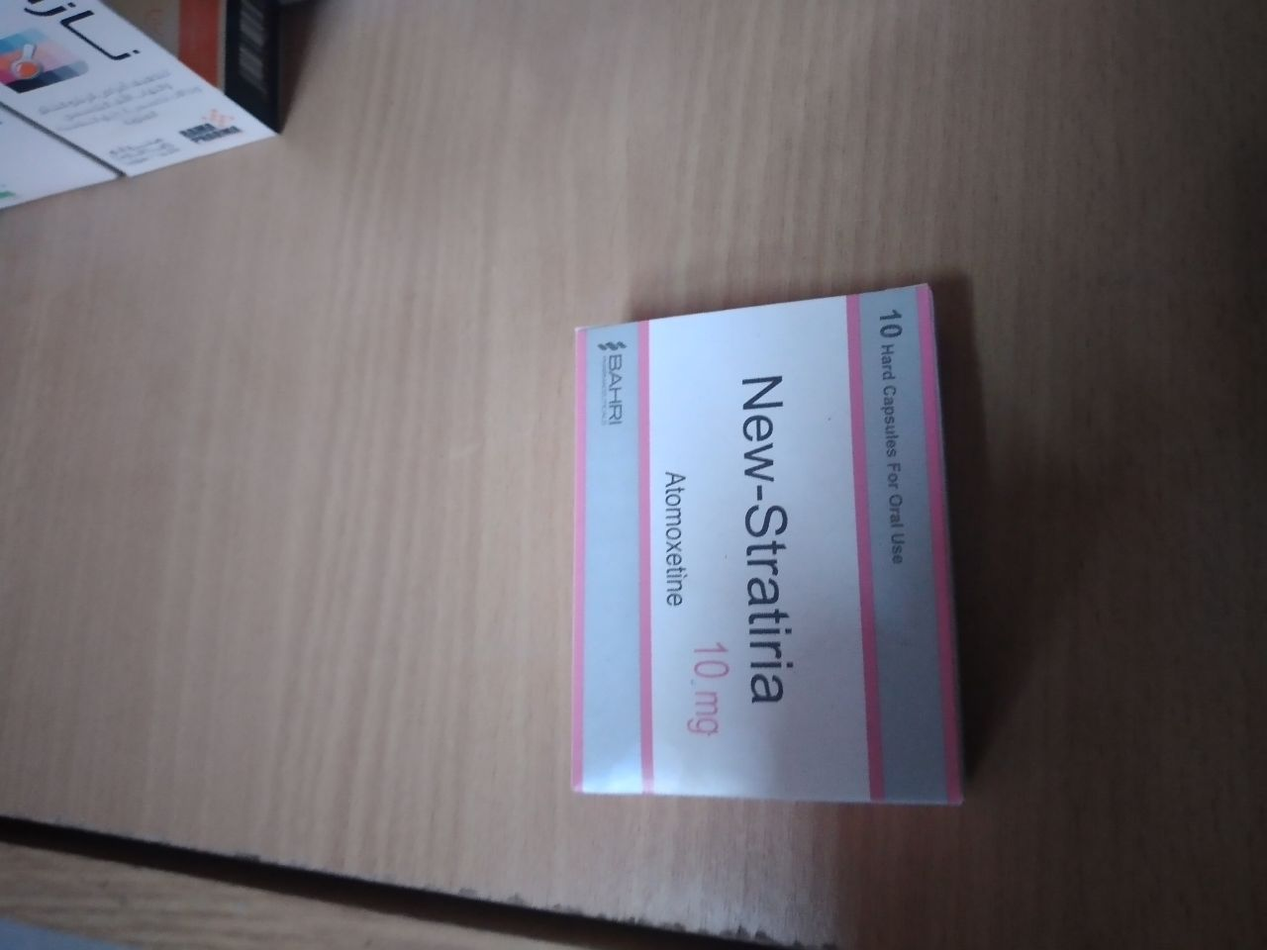Medicine: (554, 272, 985, 841)
